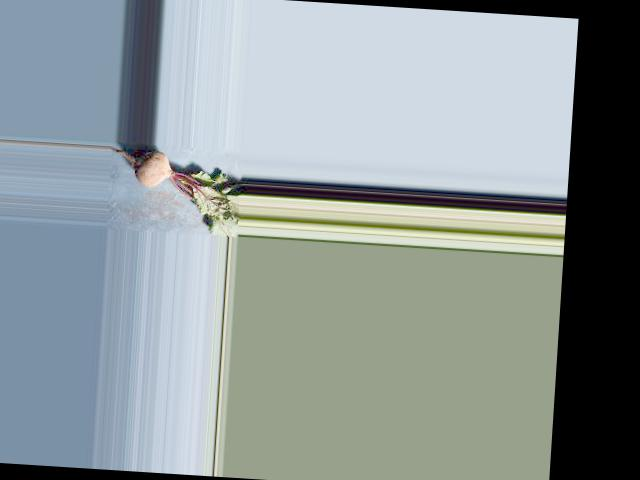beet: (106, 146, 244, 237)
